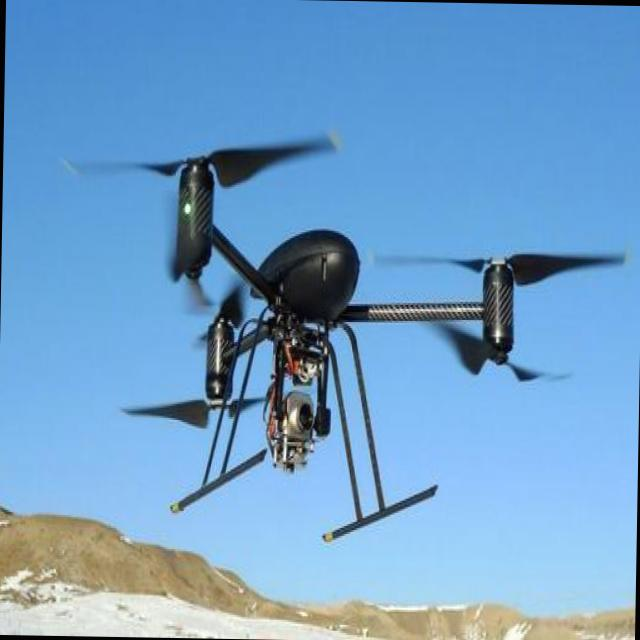drone: (54, 124, 624, 549)
